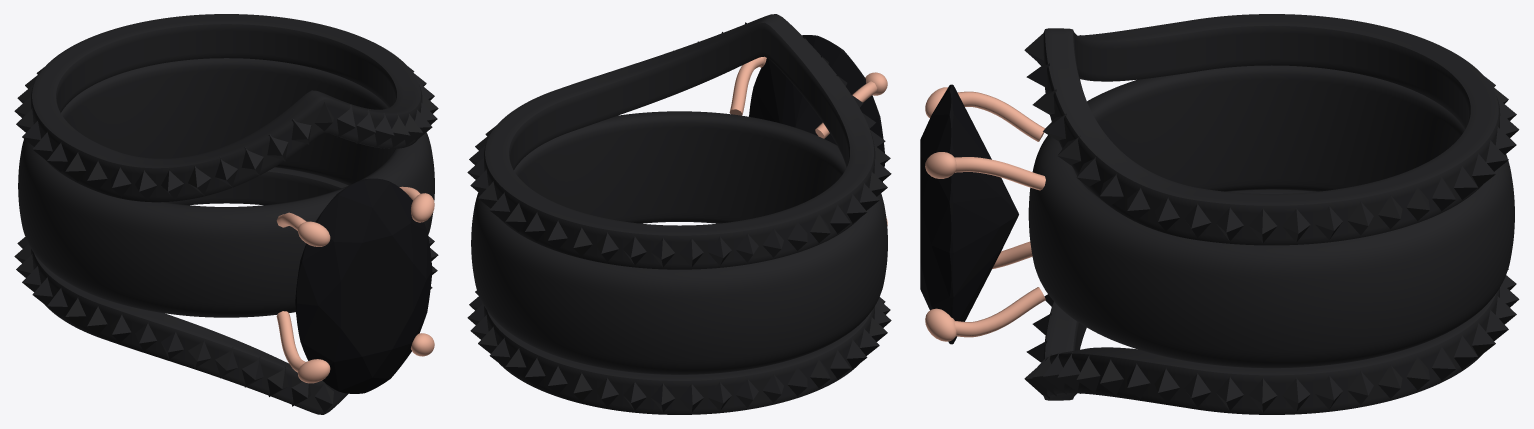
Rendered from black-oval.glb.
3 renders of one model, left to right at view 1: azimuth 30°, elevation 25°; view 2: azimuth 150°, elevation 25°; view 3: azimuth 270°, elevation 25°, orthographic. The views are drawn at different scales.
Visible parts, largest first — view 1: band_main, chevron_top, stone, chevron_bottom, metal; view 2: band_main, chevron_top, chevron_bottom, stone, metal; view 3: band_main, chevron_top, chevron_bottom, stone, metal.
Part boxes in pixels (bbox=[...]): band_main: bbox=[18, 58, 434, 317]; chevron_top: bbox=[14, 14, 438, 202]; stone: bbox=[295, 178, 432, 393]; chevron_bottom: bbox=[14, 167, 438, 414]; metal: bbox=[276, 186, 434, 383]; band_main: bbox=[471, 111, 887, 374]; chevron_top: bbox=[467, 14, 891, 269]; chevron_bottom: bbox=[467, 290, 891, 414]; stone: bbox=[749, 35, 884, 181]; metal: bbox=[729, 56, 887, 225]; band_main: bbox=[1028, 65, 1514, 368]; chevron_top: bbox=[1024, 14, 1519, 245]; chevron_bottom: bbox=[1024, 189, 1519, 414]; stone: bbox=[920, 84, 1018, 344]; metal: bbox=[925, 87, 1045, 341].
Bounding box in the file's own units: 21.7 × 17.9 × 26.27.
